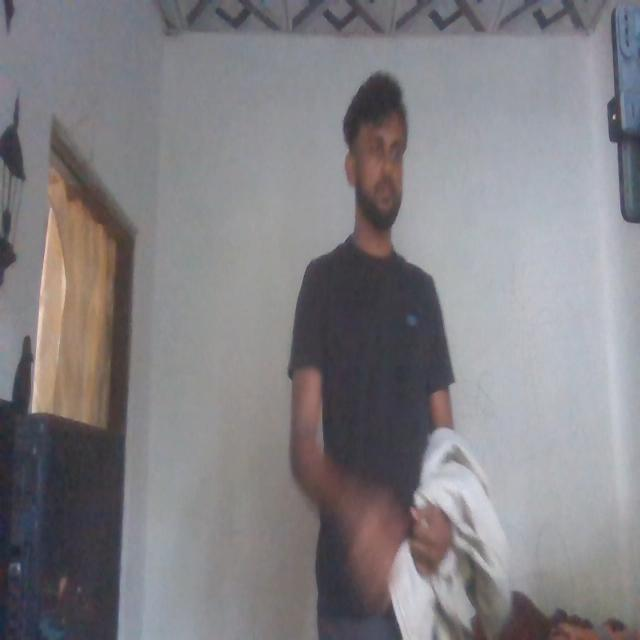Person: (282, 81, 466, 635)
